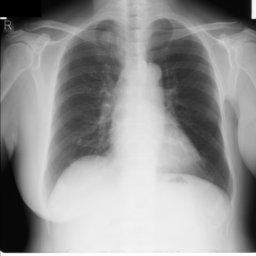left lobe: (149, 19, 230, 192)
right lobe: (50, 21, 123, 186)
